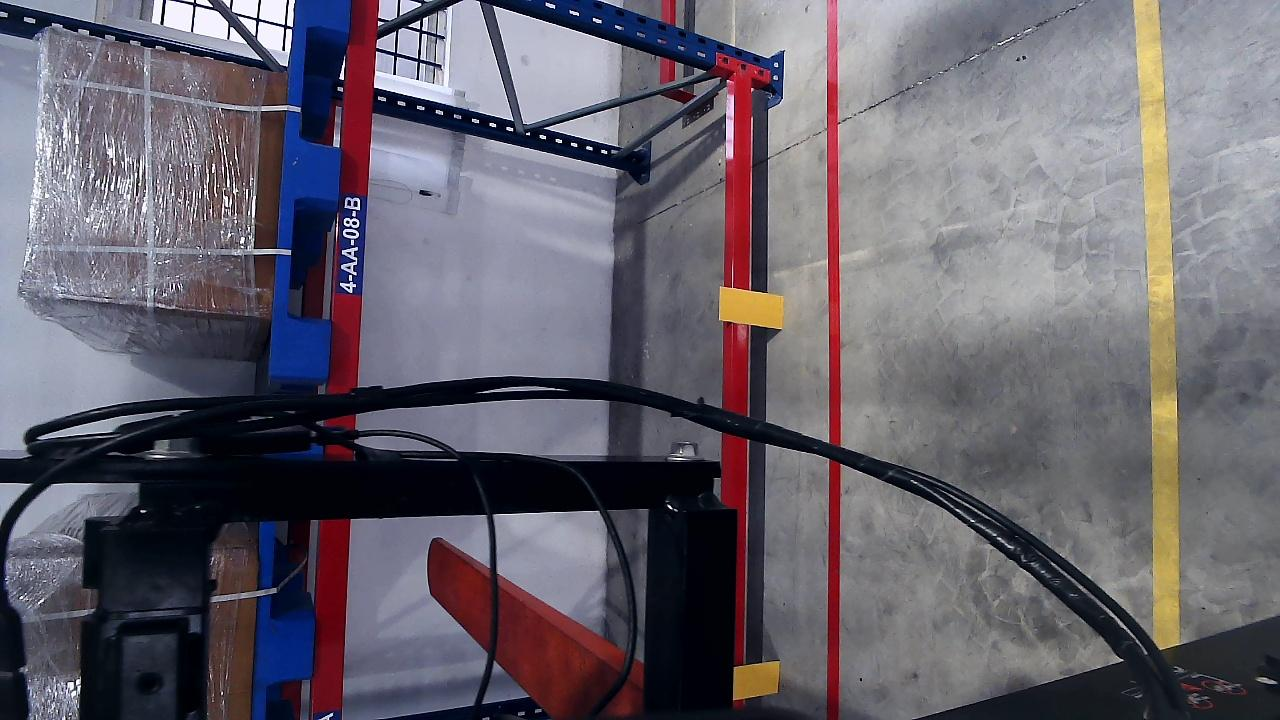h_rack: (309, 0, 382, 720), (728, 73, 757, 720)
orange_strip: (718, 285, 784, 328), (732, 660, 781, 700)
red_line: (822, 10, 844, 715)
yellow_line: (1135, 0, 1182, 645)
